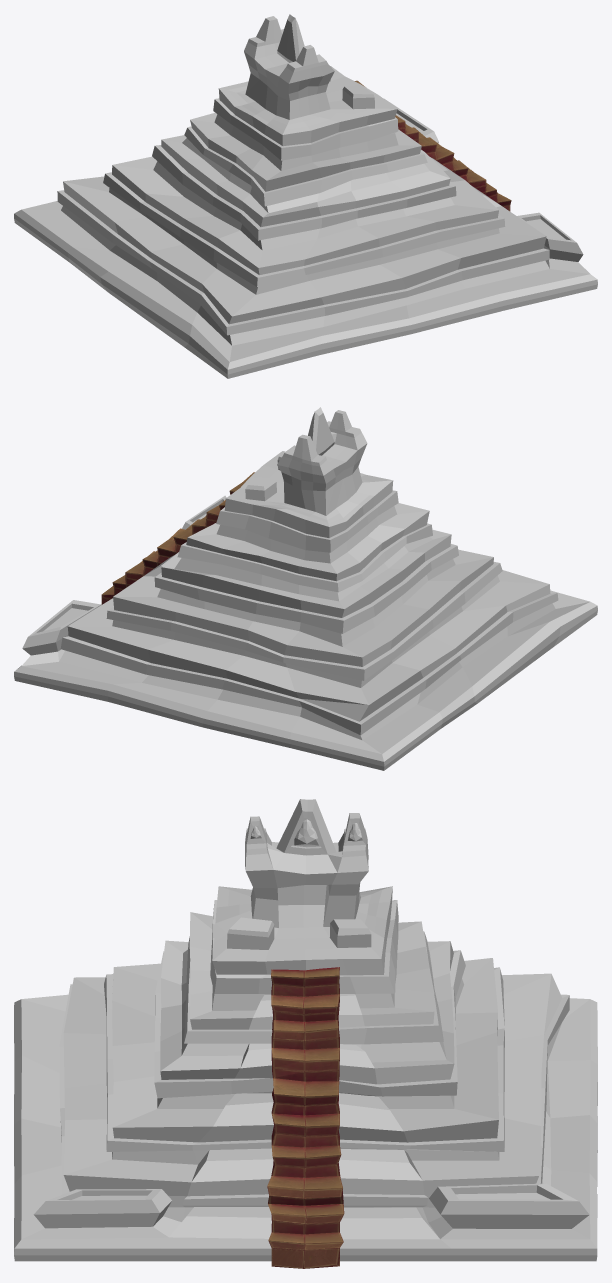
Rendered from pyramids.fbx.
3 renders of one model, top to bottom at view 1: azimuth 30°, elevation 25°; view 2: azimuth 150°, elevation 25°; view 3: azimuth 270°, elevation 25°, orthographic. The views are drawn at different scales.
Parts seen in each view (by area): view 1: model; view 2: model; view 3: model.
Part boxes in pixels (x1,y1,x2,y2): model: (14,14,597,378); model: (14,407,597,770); model: (14,799,597,1268).
Size of the model in its own units: 1613 by 990 by 1572.
